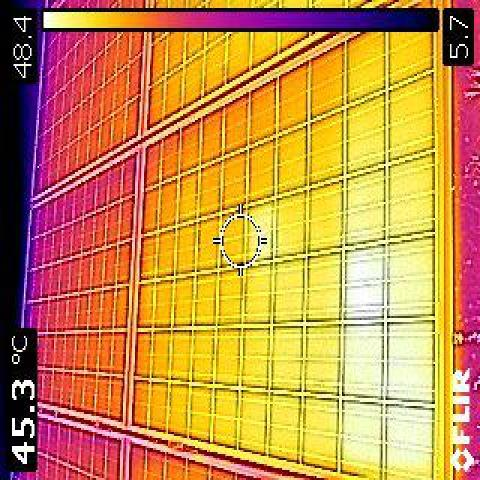fault: (343, 326, 430, 466), (346, 245, 384, 315)
